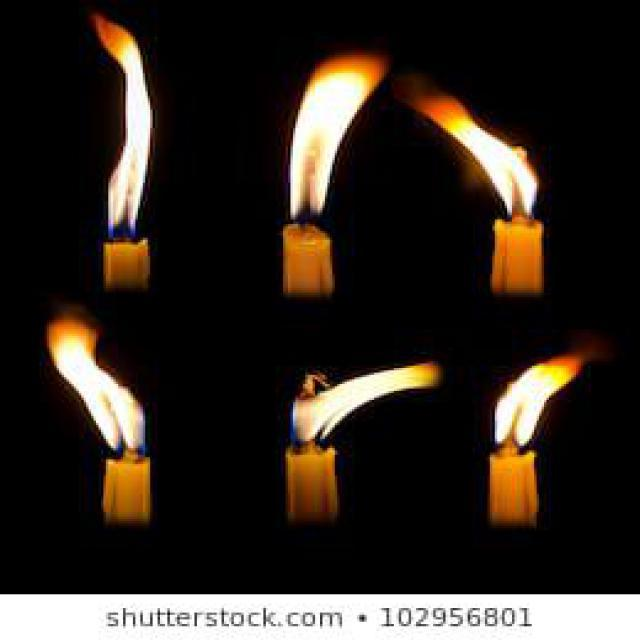Fire: (395, 74, 538, 216), (289, 52, 388, 215), (90, 12, 154, 239), (46, 316, 146, 458), (293, 360, 441, 445), (496, 336, 609, 444)
